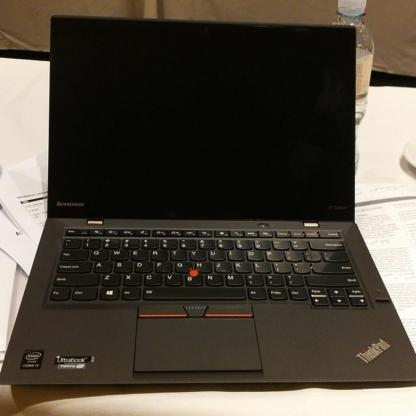board: (0, 11, 415, 389), (331, 0, 373, 177)
